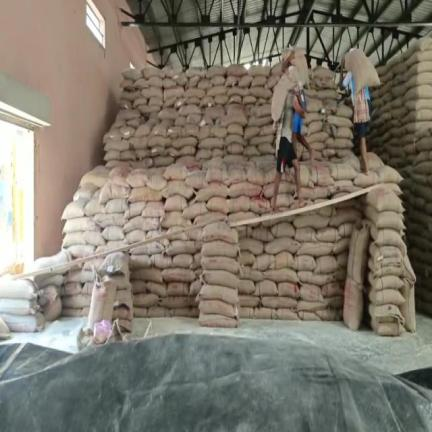Zone-Counting: (271, 50, 304, 207), (340, 48, 379, 173), (284, 49, 313, 163)
